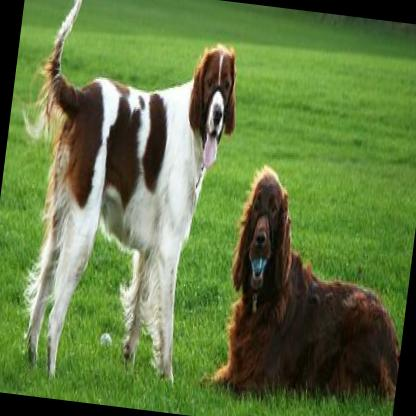Irish_setter: (204, 157, 416, 414)
